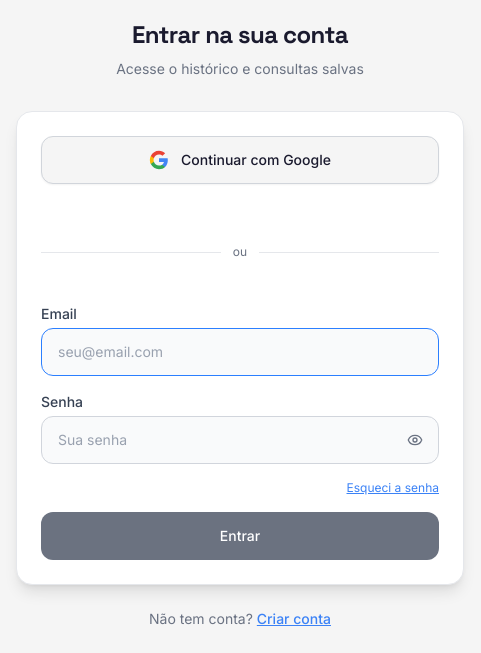
Test: LoginForm › Email Validation (Task 7.2) › shows error when email format is invalid on blur
Type "email-invalido" into the field labelled "Email" at point(240, 352), box [41,328,439,376]
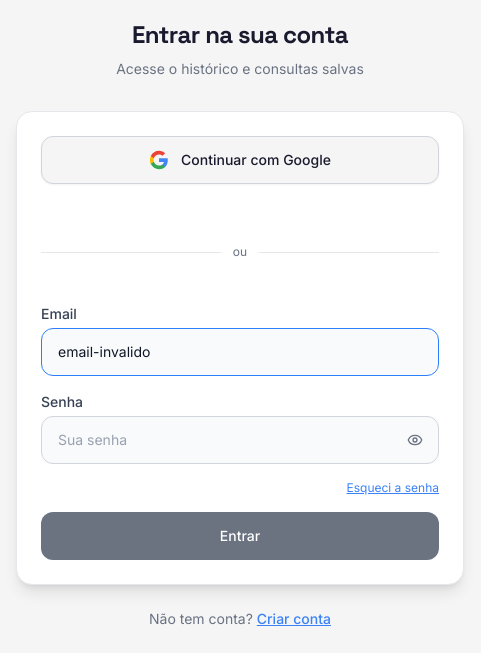
Leave the field labelled "Email", box [41,328,439,376]
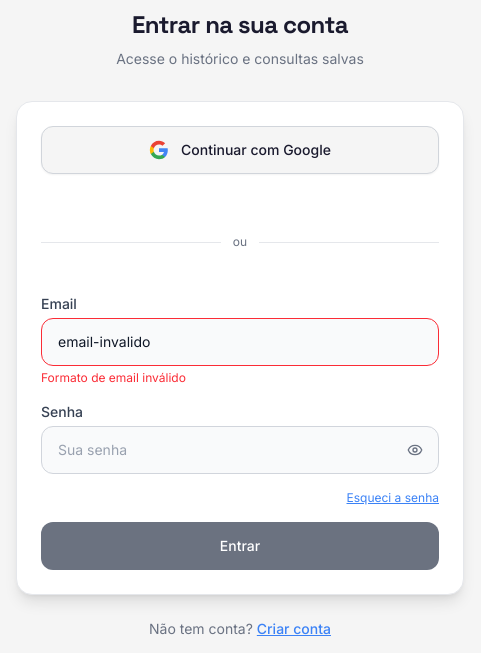
Check: the message "Formato de email inválido" is shown, box [41,370,186,385]
